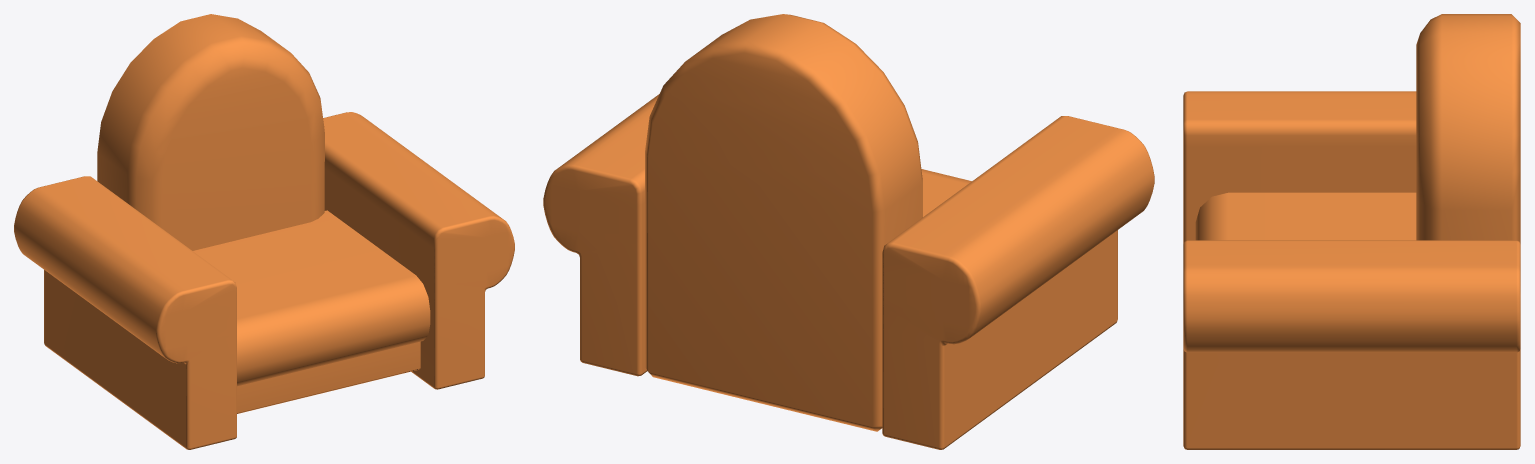
Rendered from Chair_Armchair_4.glb.
3 views of the same model, side by side, from view 1: azimuth 30°, elevation 25°; view 2: azimuth 150°, elevation 25°; view 3: azimuth 270°, elevation 25° (orthographic). The views are drawn at different scales.
Parts seen in each view (by area): view 1: Armchair_4; view 2: Armchair_4; view 3: Armchair_4.
Boxes of the visible parts, box(x1,y1,x2,y2) form: Armchair_4: box(14, 14, 514, 449); Armchair_4: box(543, 14, 1154, 449); Armchair_4: box(1183, 14, 1520, 449).
Size of the model in its own units: 1.58 by 1.24 by 1.11.
Materials: 1 (1 with a texture image).
